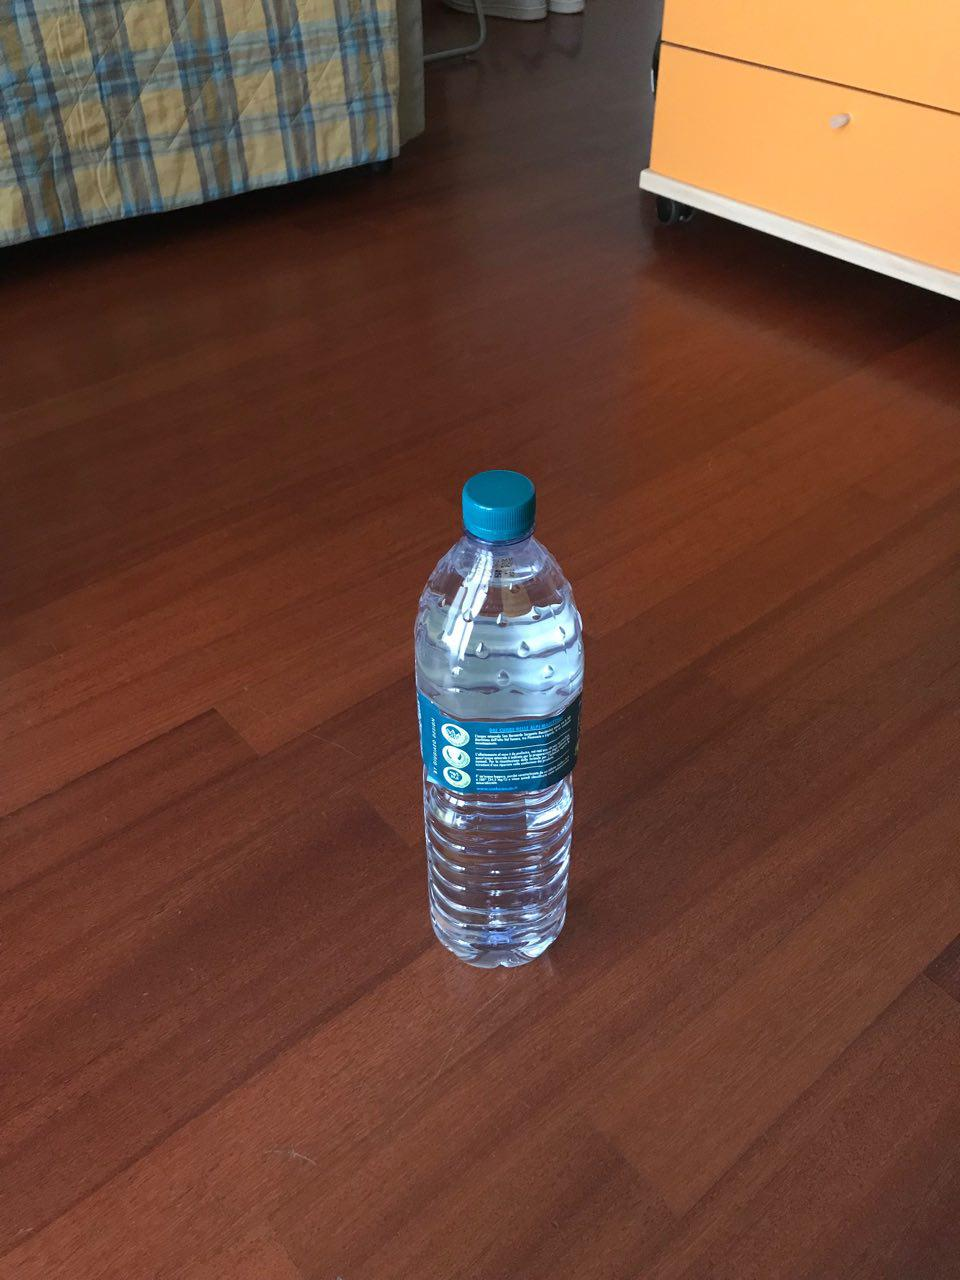san_bernardo: (410, 467, 585, 970)
